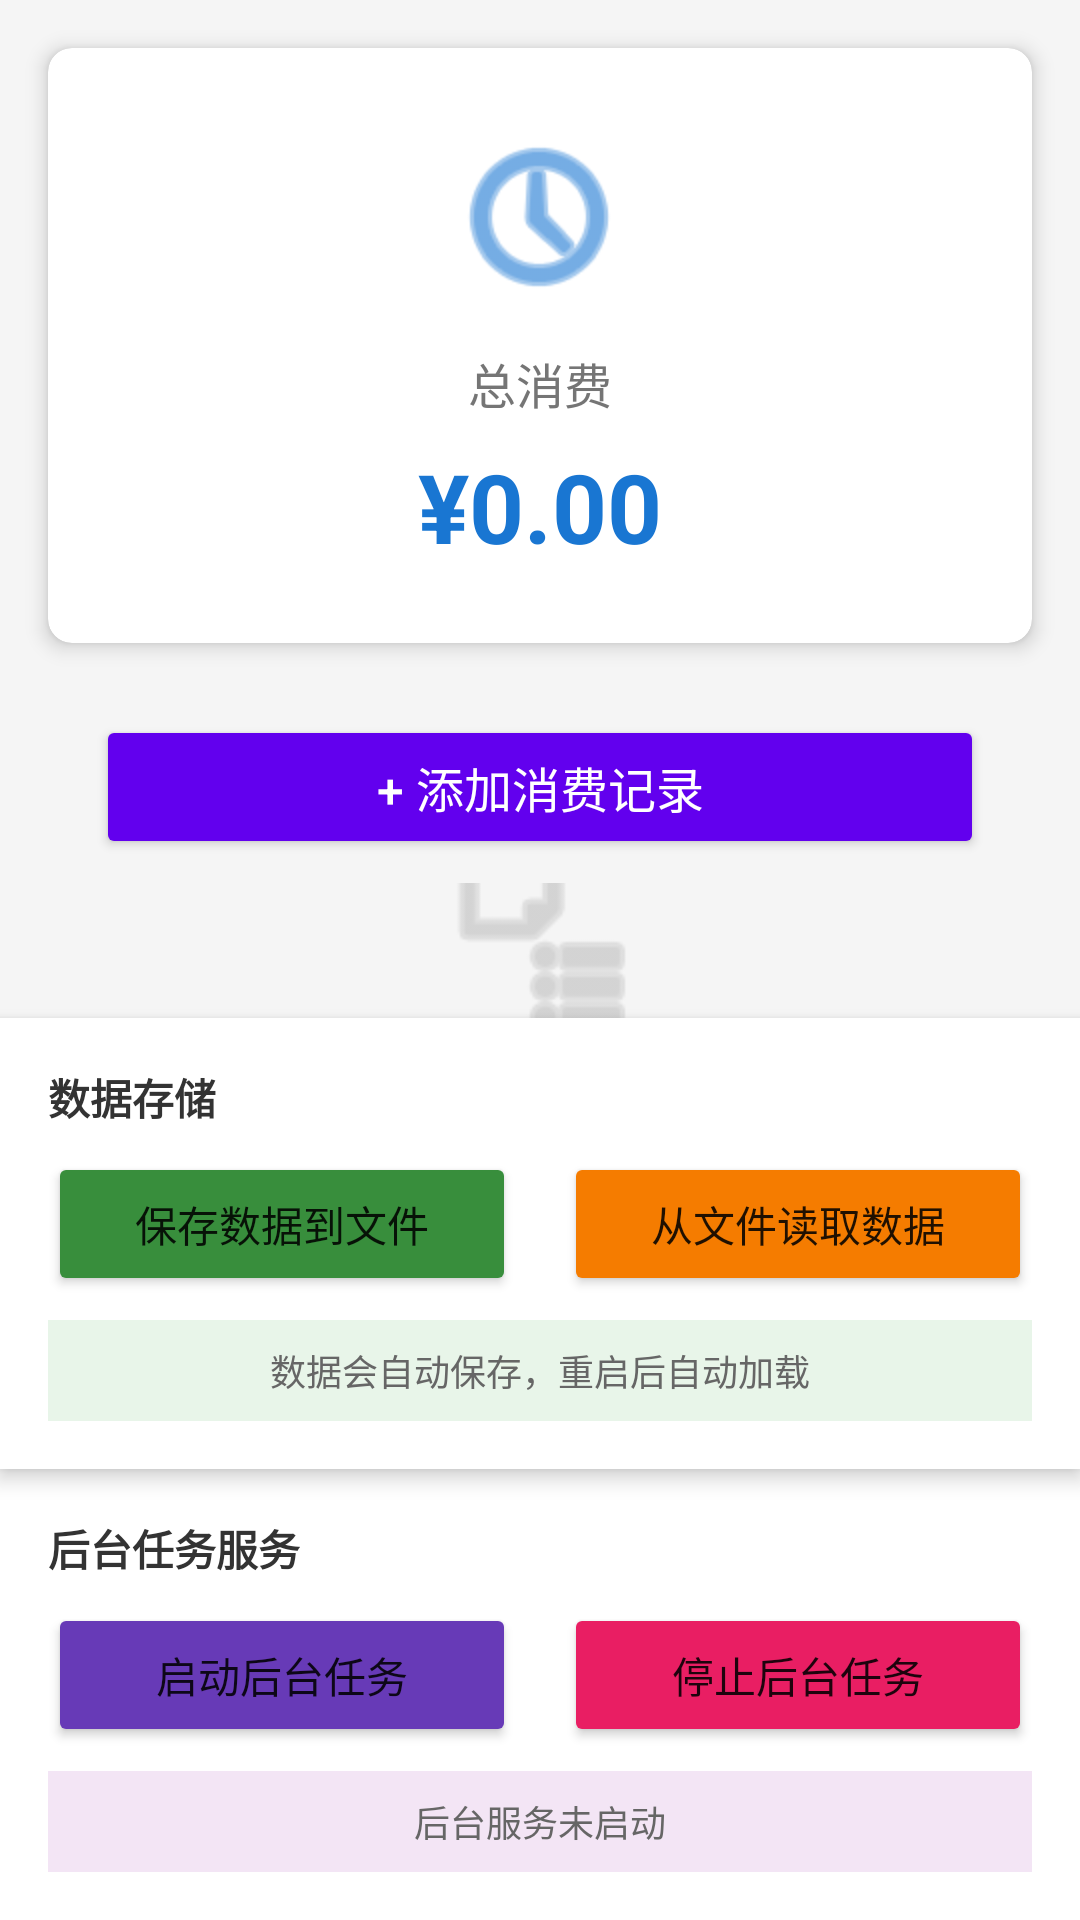

Point at icon controls on the screen. Image size 1080px x 1920px, points as (x=x, y=y).
recent history: (x=539, y=217)
